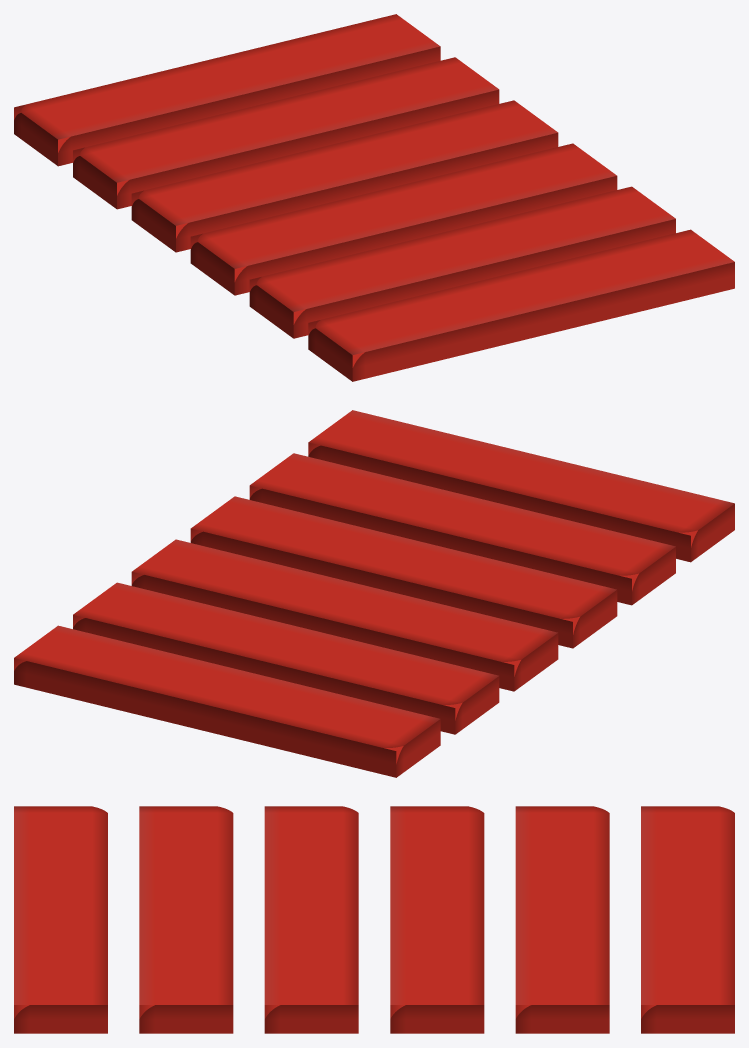
File: bridge_end_1.obj
The picture shows the model from 3 angles, top to bottom: view 1: azimuth 30°, elevation 25°; view 2: azimuth 150°, elevation 25°; view 3: azimuth 270°, elevation 25°; orthographic projection. The views are drawn at different scales.
Parts seen in each view (by area): view 1: cube; view 2: cube; view 3: cube.
Boxes of the visible parts, bbox=[...] form: cube: bbox=[14, 14, 734, 381]; cube: bbox=[14, 410, 734, 777]; cube: bbox=[14, 806, 734, 1033].
Size of the model in its own units: 0.4688 by 0.0312 by 0.7188.
1 material, 1 textured.
